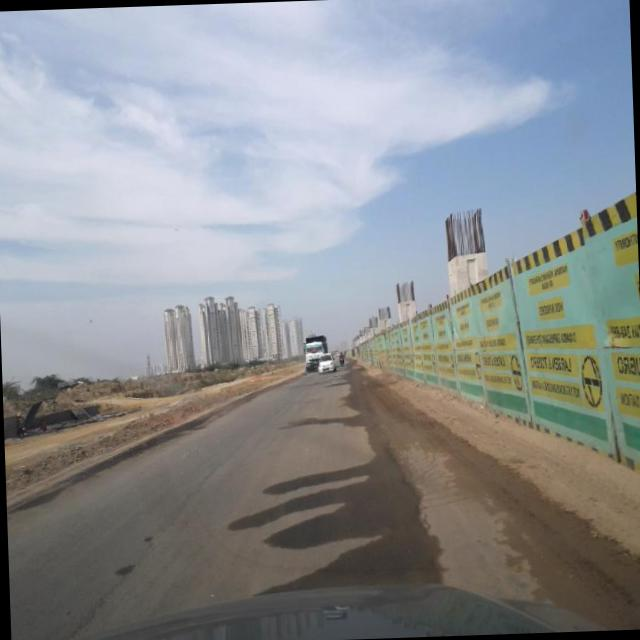crack: (382, 426, 485, 512)
pothole: (76, 450, 229, 628), (356, 376, 440, 566)
